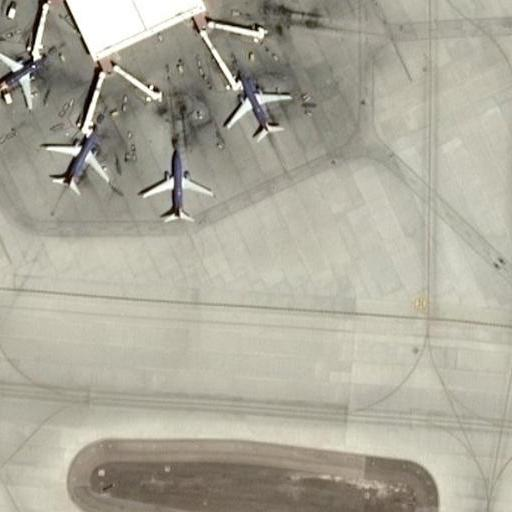Aircraft: (138, 149, 217, 224), (223, 67, 293, 138), (42, 122, 110, 194), (0, 41, 46, 111)
